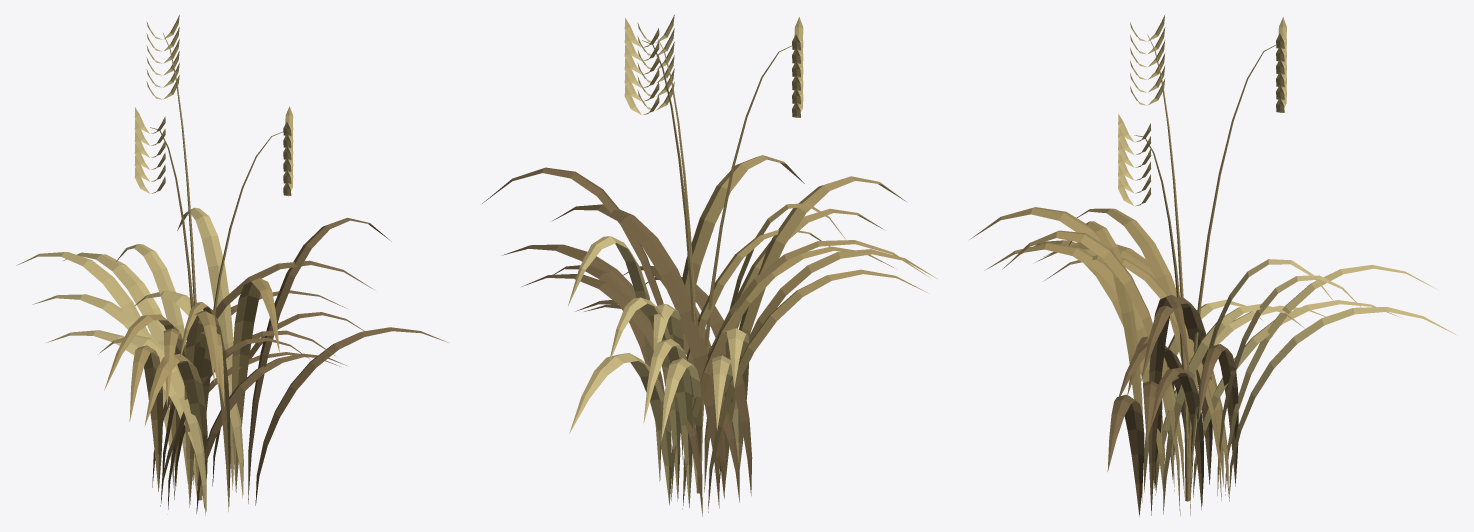
The model's file is SAND_GRASS_CLUMP.hi.glb.
The picture shows the model from 3 angles, left to right: view 1: azimuth 30°, elevation 25°; view 2: azimuth 150°, elevation 25°; view 3: azimuth 270°, elevation 25°; orthographic projection. The views are drawn at different scales.
Parts seen in each view (by area): view 1: SAND_GRASS_CLUMP; view 2: SAND_GRASS_CLUMP; view 3: SAND_GRASS_CLUMP.
Part boxes in pixels (x1,y1,x2,y2): SAND_GRASS_CLUMP: (16, 15, 448, 515); SAND_GRASS_CLUMP: (482, 14, 936, 516); SAND_GRASS_CLUMP: (969, 14, 1457, 516).
Bounding box in the file's own units: 0.5757 × 0.6741 × 0.6269.
Materials: 1 (1 with a texture image).
